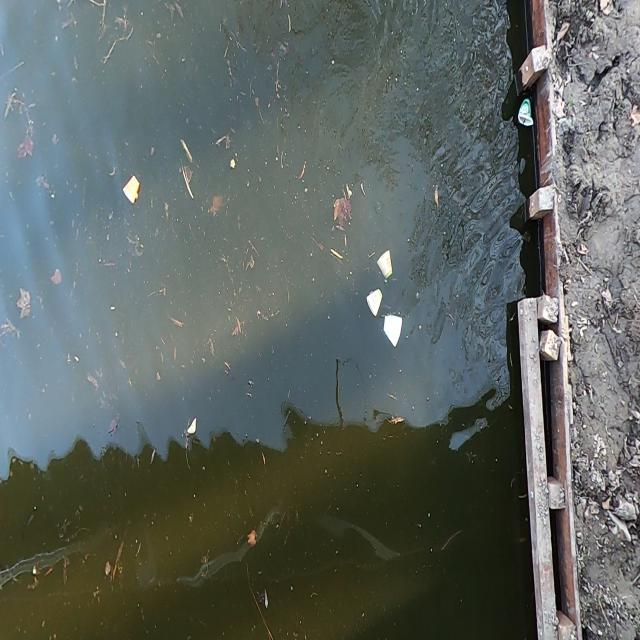Non plastique: (380, 309, 409, 353), (364, 282, 386, 322), (120, 168, 141, 208), (377, 245, 396, 288), (517, 99, 535, 137)
